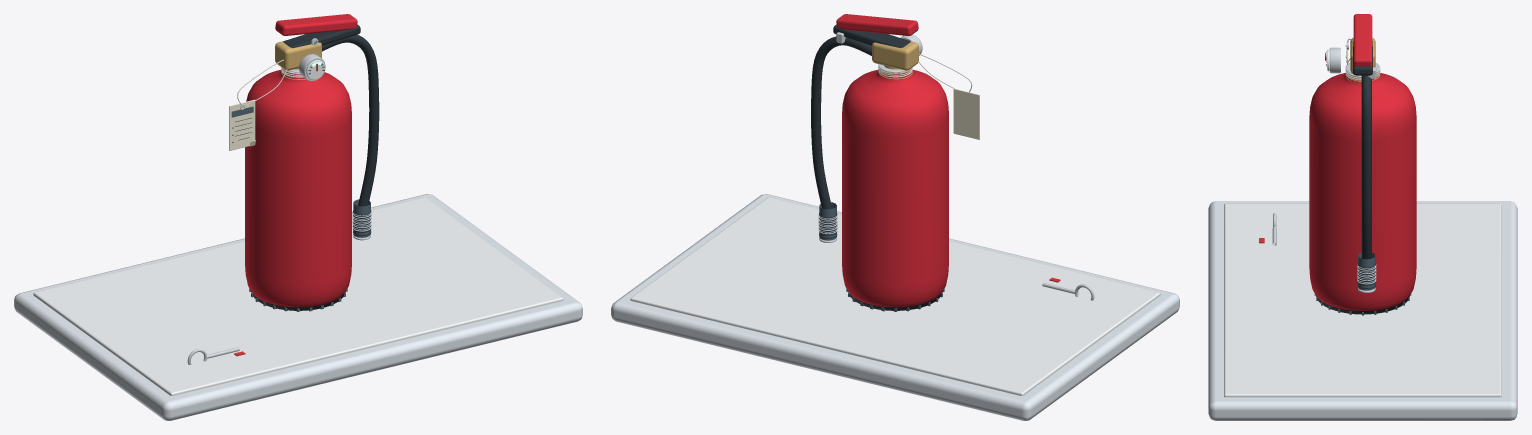
The model's file is fire-pin-removed.glb.
The picture shows the model from 3 angles, left to right: view 1: azimuth 30°, elevation 25°; view 2: azimuth 150°, elevation 25°; view 3: azimuth 270°, elevation 25°; orthographic projection.
Visible parts, largest first — view 1: fire-pin-removed; view 2: fire-pin-removed; view 3: fire-pin-removed.
Part boxes in pixels (<box>): fire-pin-removed: <box>14,14,582,420</box>; fire-pin-removed: <box>611,14,1179,420</box>; fire-pin-removed: <box>1208,14,1517,420</box>.
Size of the model in its own units: 0.77 by 0.5218 by 0.49.
